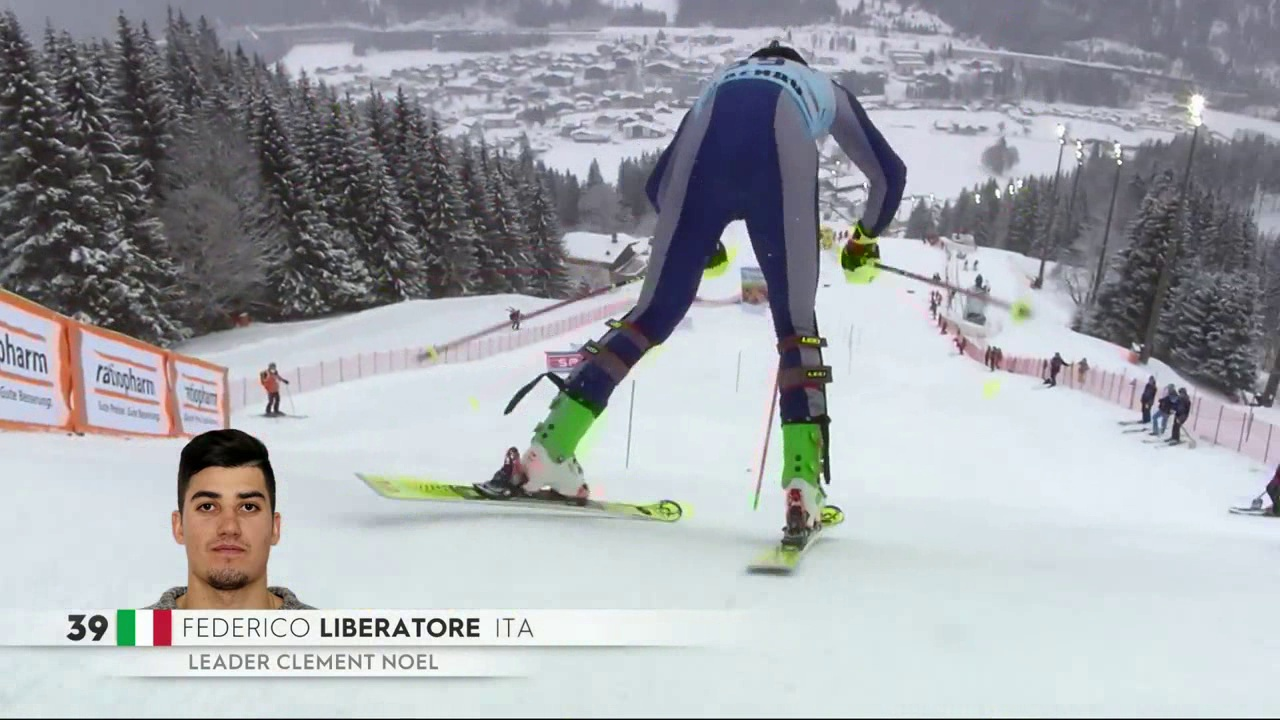ratiopharm: (1, 296, 64, 413), (88, 349, 169, 428), (173, 368, 226, 427)
